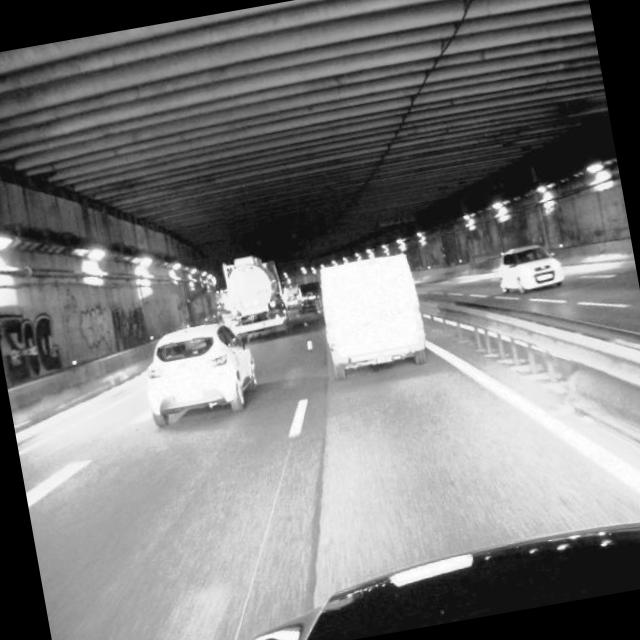Truck: (218, 250, 290, 344)
